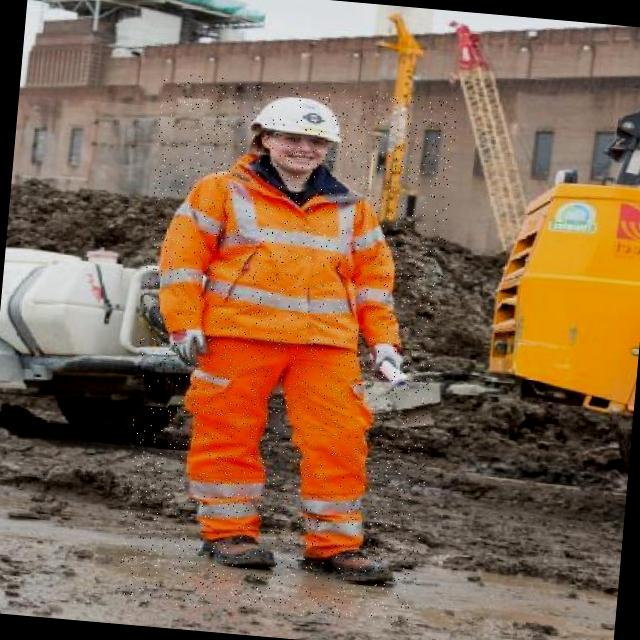boots: (298, 544, 395, 590), (197, 530, 280, 576)
gloves: (147, 267, 242, 378), (338, 297, 432, 403)
helmet: (250, 92, 346, 146)
vest: (152, 145, 416, 357)
